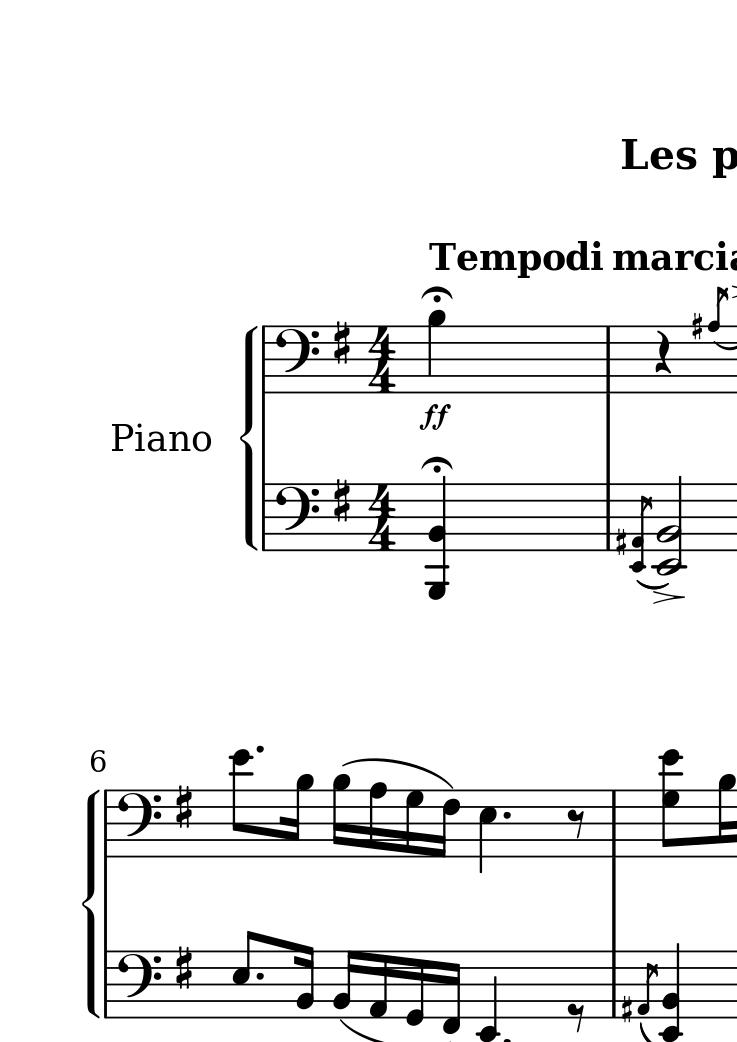16_-1: (440, 947, 462, 1036)
16_0: (403, 949, 426, 1027)
16_1: (366, 949, 391, 1020)
16_2: (330, 949, 357, 1019), (292, 943, 316, 1019)
16_6: (433, 787, 461, 860)
16_7: (403, 786, 423, 861)
16_8: (367, 781, 387, 861)
16_9: (283, 772, 314, 859), (330, 772, 351, 860), (716, 772, 736, 861)
2_-2_2: (652, 477, 688, 579)
4: (366, 481, 396, 519), (368, 324, 396, 362), (366, 360, 396, 393), (367, 517, 396, 551)
4_-2: (474, 949, 500, 1042)
4_-5_2: (424, 474, 452, 600)
4_5: (477, 788, 498, 877)
4_9: (425, 308, 447, 395)
6: (90, 747, 108, 774)
8_12: (229, 747, 253, 858)
8_5: (230, 928, 258, 1020)
8_7_12: (657, 748, 684, 861)
Accent_above: (651, 589, 685, 606)
Acciaccature: (708, 287, 730, 395), (630, 482, 652, 576), (635, 950, 661, 1018)
Fclef: (113, 947, 164, 1019), (114, 788, 162, 859), (273, 324, 320, 395), (273, 482, 320, 553)
Fermata_above: (420, 283, 452, 304), (419, 456, 452, 474)
Pno: (106, 422, 217, 454)
Rests4: (651, 329, 673, 376)
Rests8: (564, 1000, 587, 1033), (566, 807, 587, 841)
Sharp: (330, 475, 354, 526), (172, 943, 195, 991), (174, 783, 196, 833), (332, 319, 353, 368), (612, 525, 629, 557), (618, 993, 634, 1025), (690, 311, 703, 342)
Single_barline: (599, 327, 617, 392), (99, 790, 116, 856), (606, 790, 623, 856), (599, 484, 616, 549), (257, 327, 273, 393), (606, 951, 622, 1015), (258, 484, 273, 552), (100, 952, 115, 1019)
Slur: (239, 324, 261, 554), (81, 788, 101, 1018), (342, 757, 458, 791), (637, 580, 672, 592)
TimeSig: (366, 325, 398, 394), (366, 484, 398, 552)
dot: (500, 809, 512, 822), (254, 969, 266, 982), (254, 743, 265, 755)
ff: (417, 402, 454, 432)
